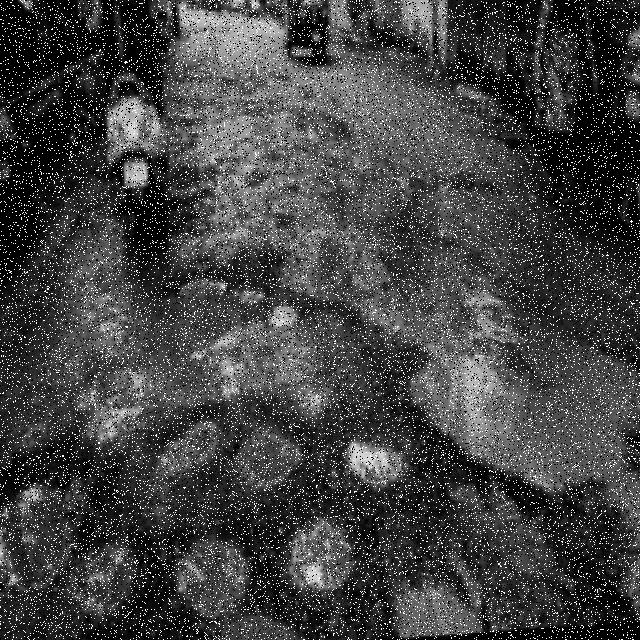pothole: (411, 346, 640, 619), (0, 486, 73, 590), (67, 543, 139, 623), (177, 540, 249, 619), (292, 519, 353, 599), (398, 588, 485, 636), (234, 426, 301, 488), (160, 421, 216, 476), (216, 610, 307, 640), (346, 441, 401, 489), (177, 278, 227, 304), (266, 306, 299, 332)
